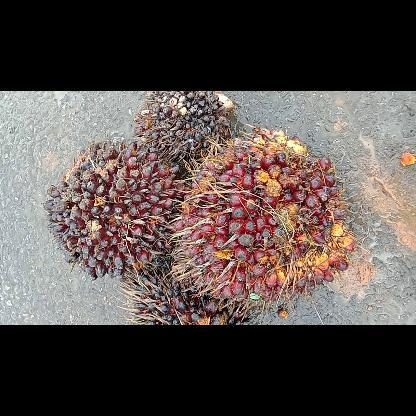Kurang masak: (44, 143, 181, 273)
TBS abnormal: (135, 91, 233, 164), (126, 268, 250, 324)
TBS masak: (174, 127, 354, 300)
